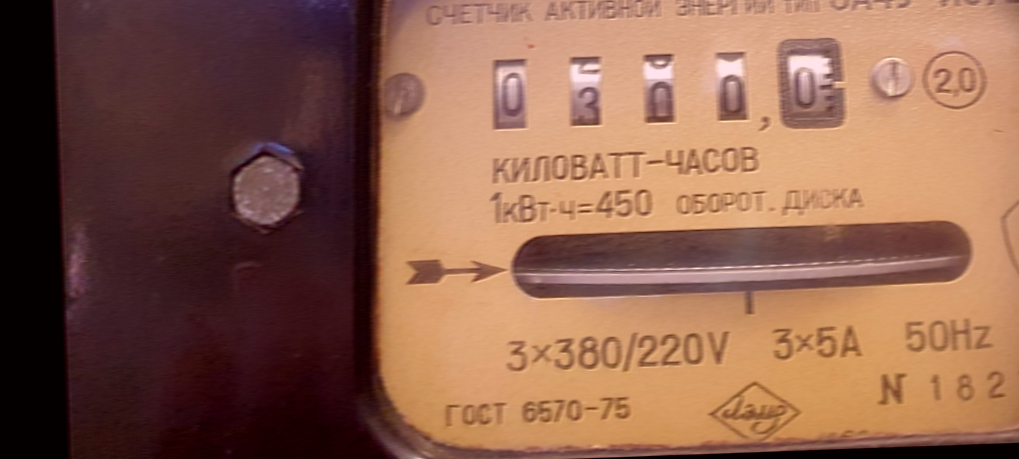0: (790, 61, 819, 110), (716, 70, 746, 117), (499, 65, 526, 117), (646, 74, 674, 123)
3: (573, 80, 603, 124)
screen: (470, 28, 855, 147)
